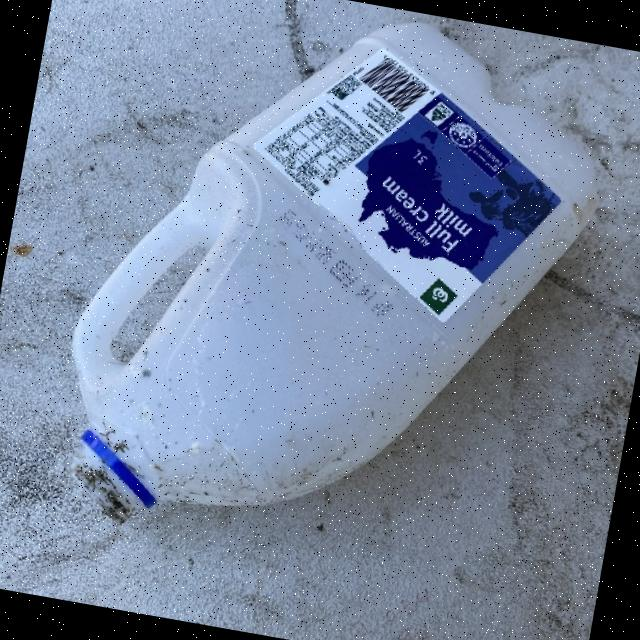plastic: (41, 0, 624, 589)
